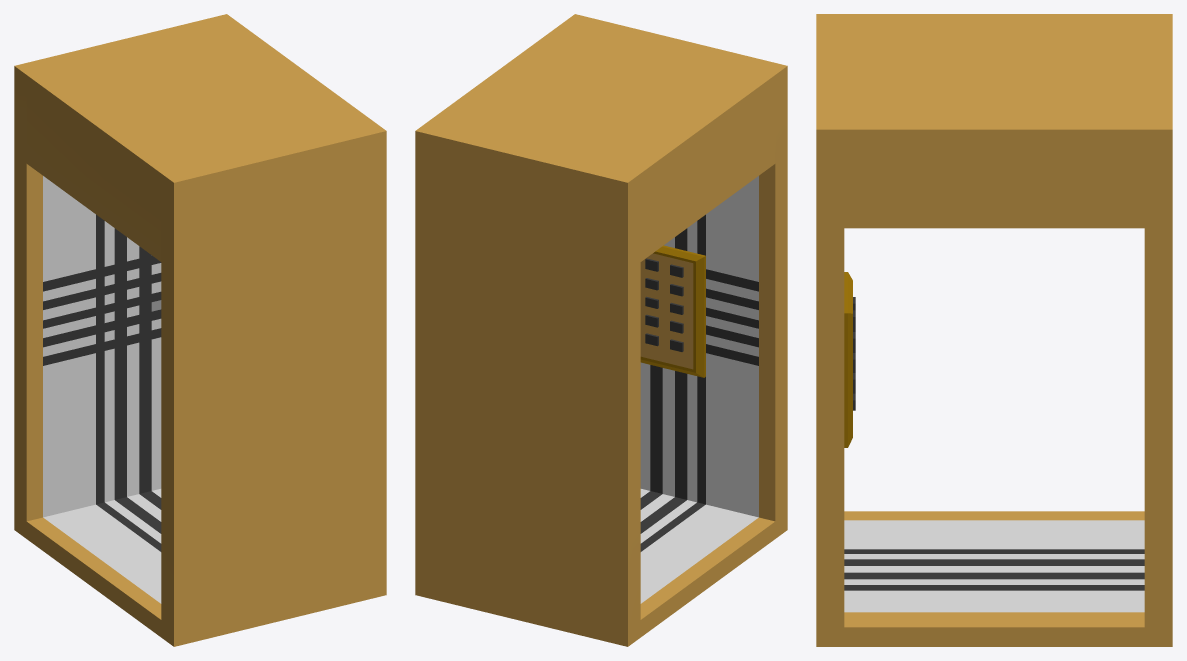
File: Elevator.fbx
3 renders of one model, left to right at view 1: azimuth 30°, elevation 25°; view 2: azimuth 150°, elevation 25°; view 3: azimuth 270°, elevation 25°, orthographic. The views are drawn at different scales.
Visible parts, largest first — view 1: Elevator; view 2: Elevator; view 3: Elevator.
Boxes of the visible parts, x1=… form: Elevator: x1=14, y1=14, x2=386, y2=646; Elevator: x1=415, y1=14, x2=787, y2=646; Elevator: x1=816, y1=14, x2=1172, y2=646.
Bounding box in the file's own units: 19.85 × 41.37 × 25.82.
